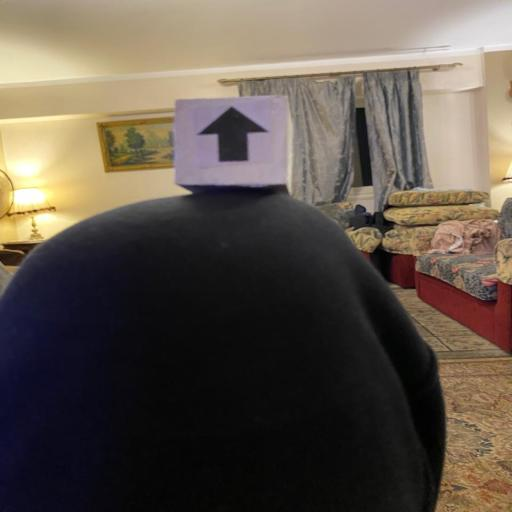Up: (173, 94, 293, 189)
